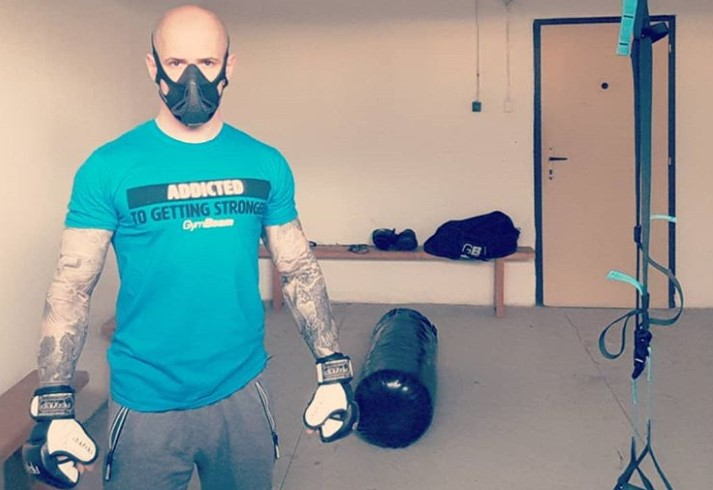face_with_mask: (144, 5, 235, 128)
